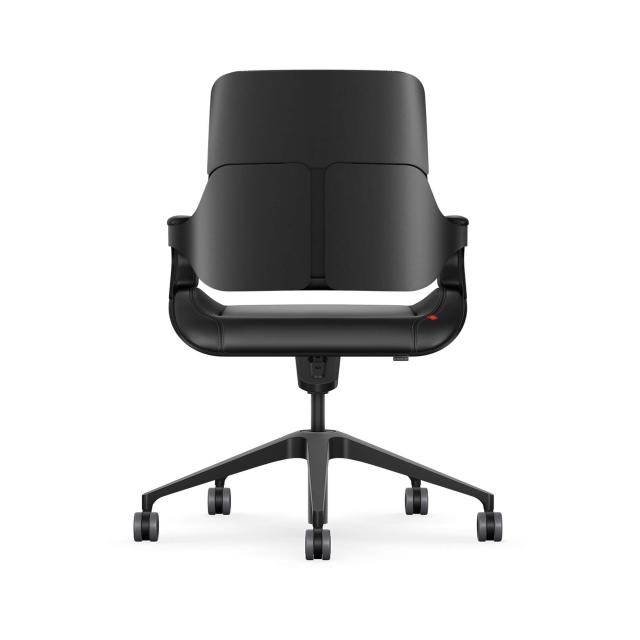chair: (132, 69, 503, 560)
